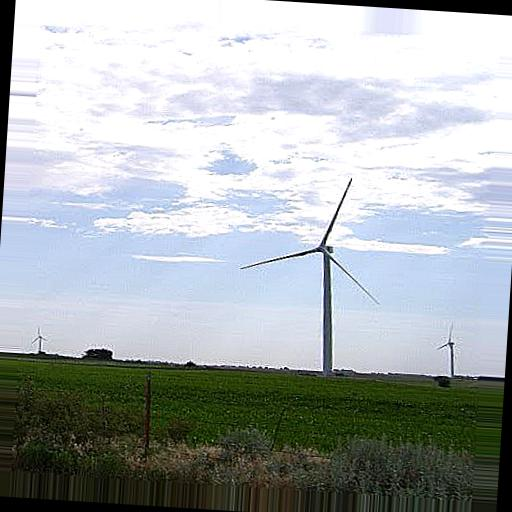wind turbine: (239, 177, 382, 365), (435, 322, 460, 376), (30, 323, 48, 352)
